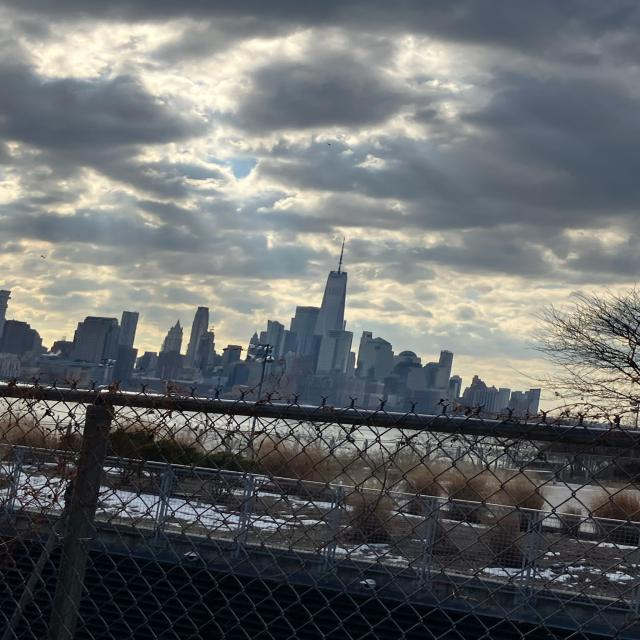WTC: (318, 237, 352, 338)
